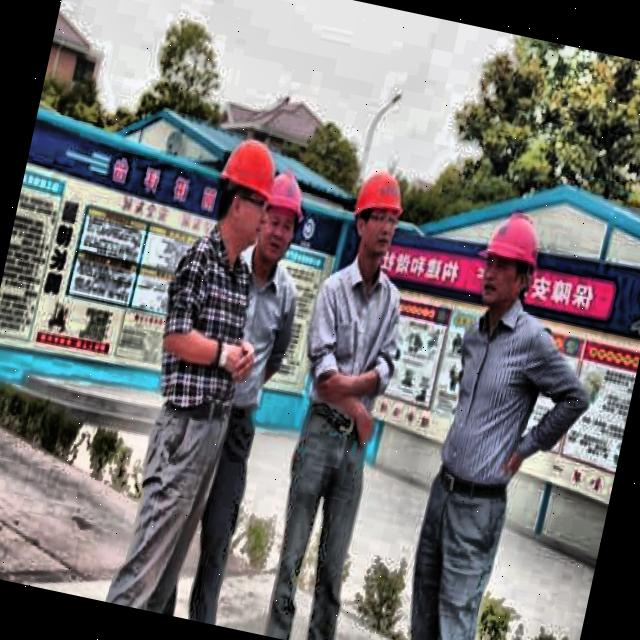helmet: (199, 126, 284, 255), (472, 202, 546, 316), (338, 162, 412, 273), (248, 161, 314, 272)
